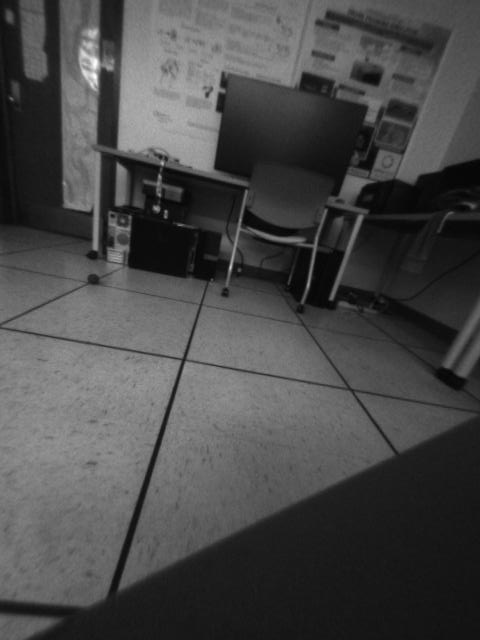dogtoy: (79, 267, 108, 288)
